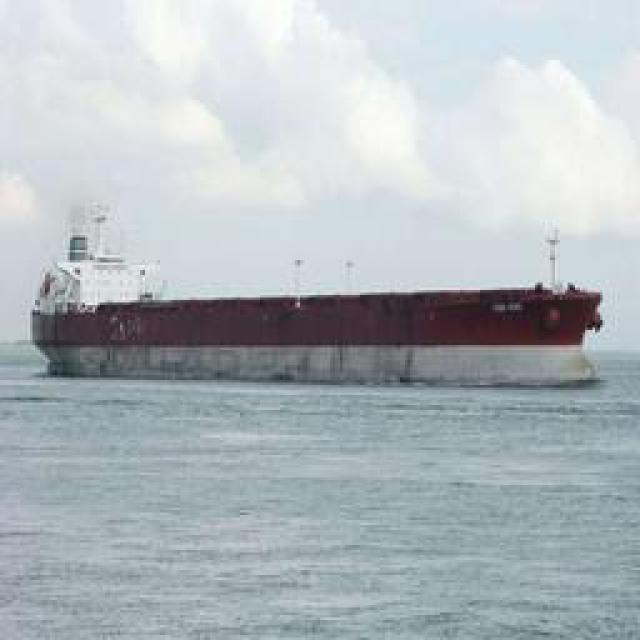Ship: (39, 250, 604, 375)
